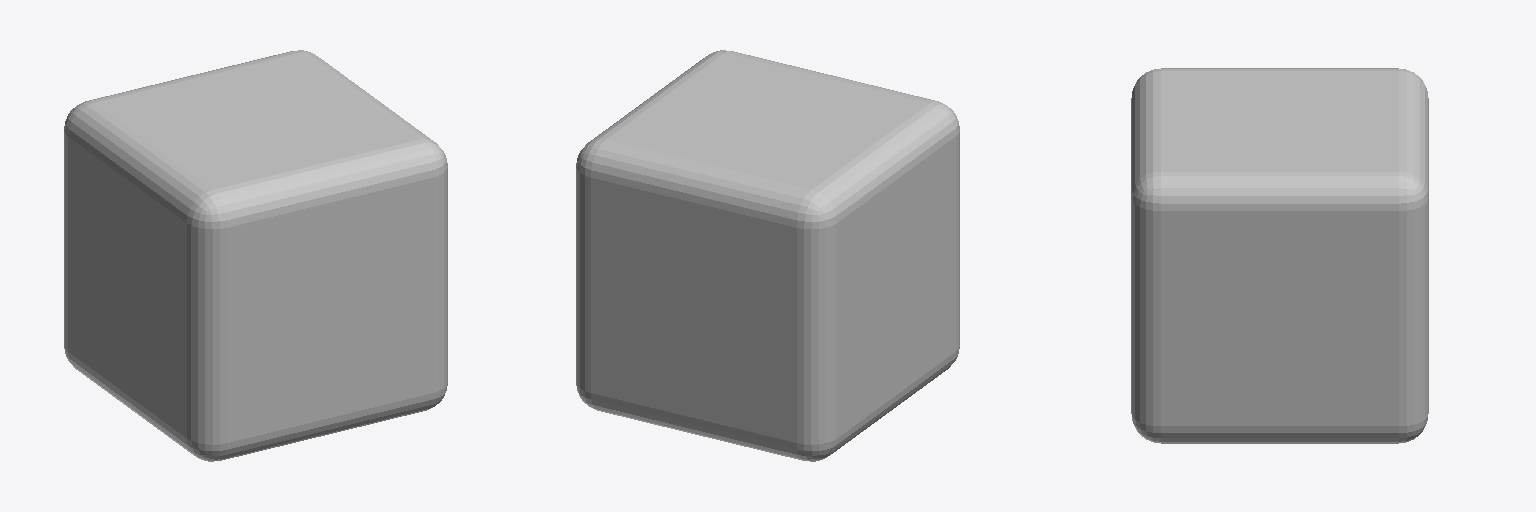
Rendered from curvybox.obj.
3 renders of one model, left to right at view 1: azimuth 30°, elevation 25°; view 2: azimuth 150°, elevation 25°; view 3: azimuth 270°, elevation 25°, orthographic.
Parts seen in each view (by area): view 1: Cube; view 2: Cube; view 3: Cube.
Part boxes in pixels (x1,y1,x2,y2): Cube: (64, 50, 447, 461); Cube: (576, 50, 959, 461); Cube: (1131, 68, 1428, 443).
Bounding box in the file's own units: 2 × 2 × 2.